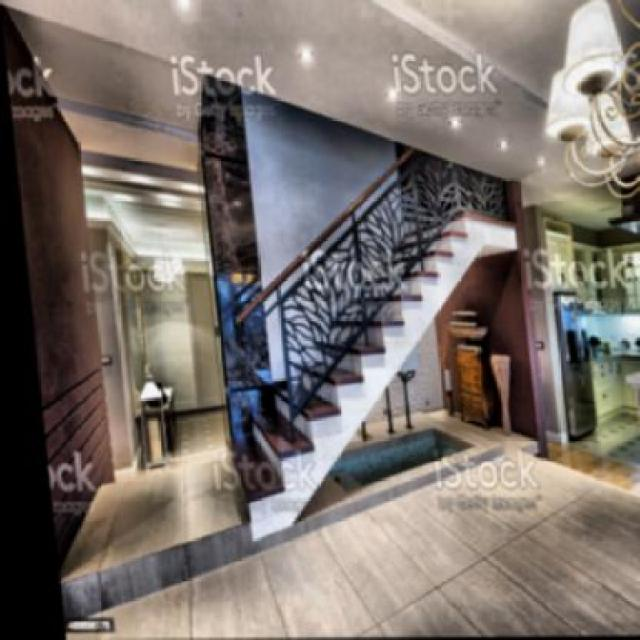stair: (211, 180, 529, 435)
